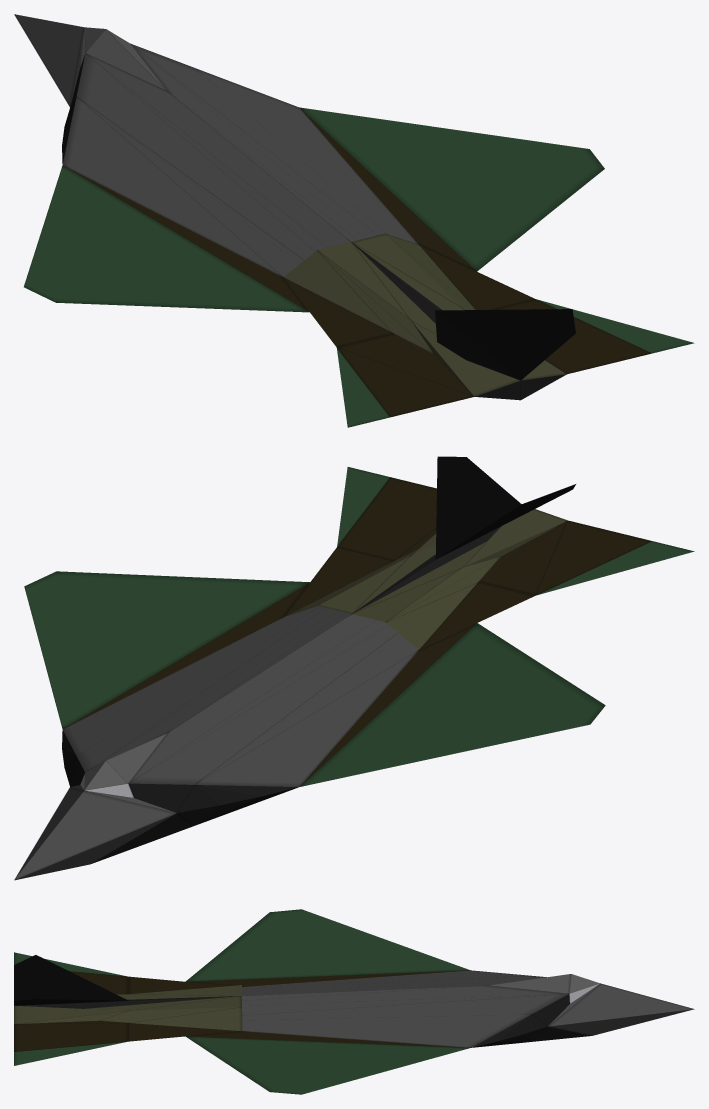
3 views of the same model, one above another, from view 1: azimuth 30°, elevation 25°; view 2: azimuth 150°, elevation 25°; view 3: azimuth 270°, elevation 25° (orthographic). The views are drawn at different scales.
Parts seen in each view (by area): view 1: world; view 2: world; view 3: world.
Boxes of the visible parts, x1=… form: world: x1=14, y1=14, x2=694, y2=427; world: x1=14, y1=456, x2=694, y2=880; world: x1=14, y1=909, x2=694, y2=1094.
Size of the model in its own units: 1.2 by 0.187 by 1.86.
1 material, 1 textured.
